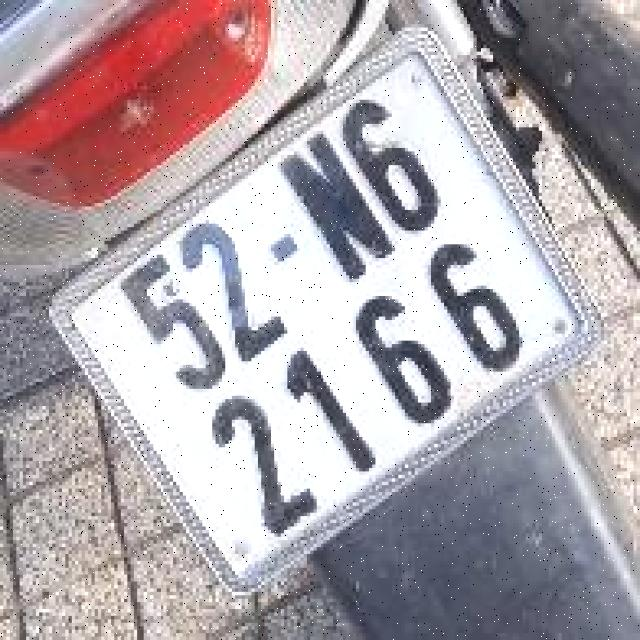1: (264, 331, 402, 494)
2: (196, 377, 334, 550), (161, 208, 300, 374)
5: (108, 245, 246, 410)
6: (409, 224, 552, 391), (336, 274, 476, 442), (328, 88, 457, 249)
N: (266, 121, 413, 301)
